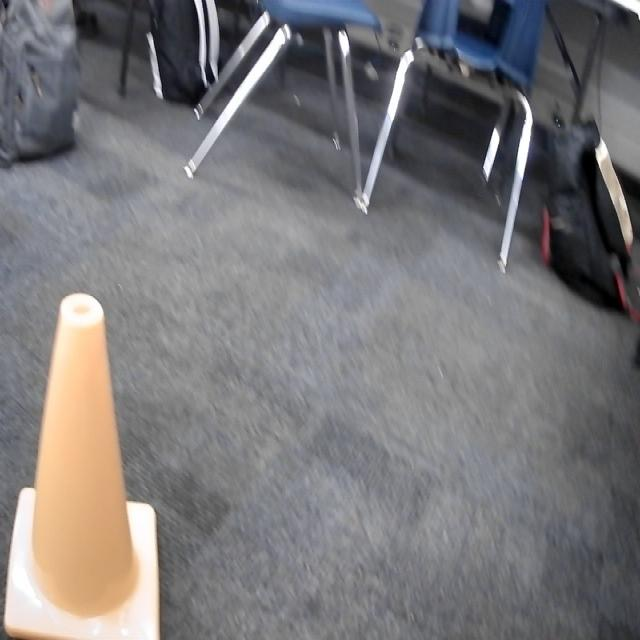cone: (2, 290, 164, 640)
